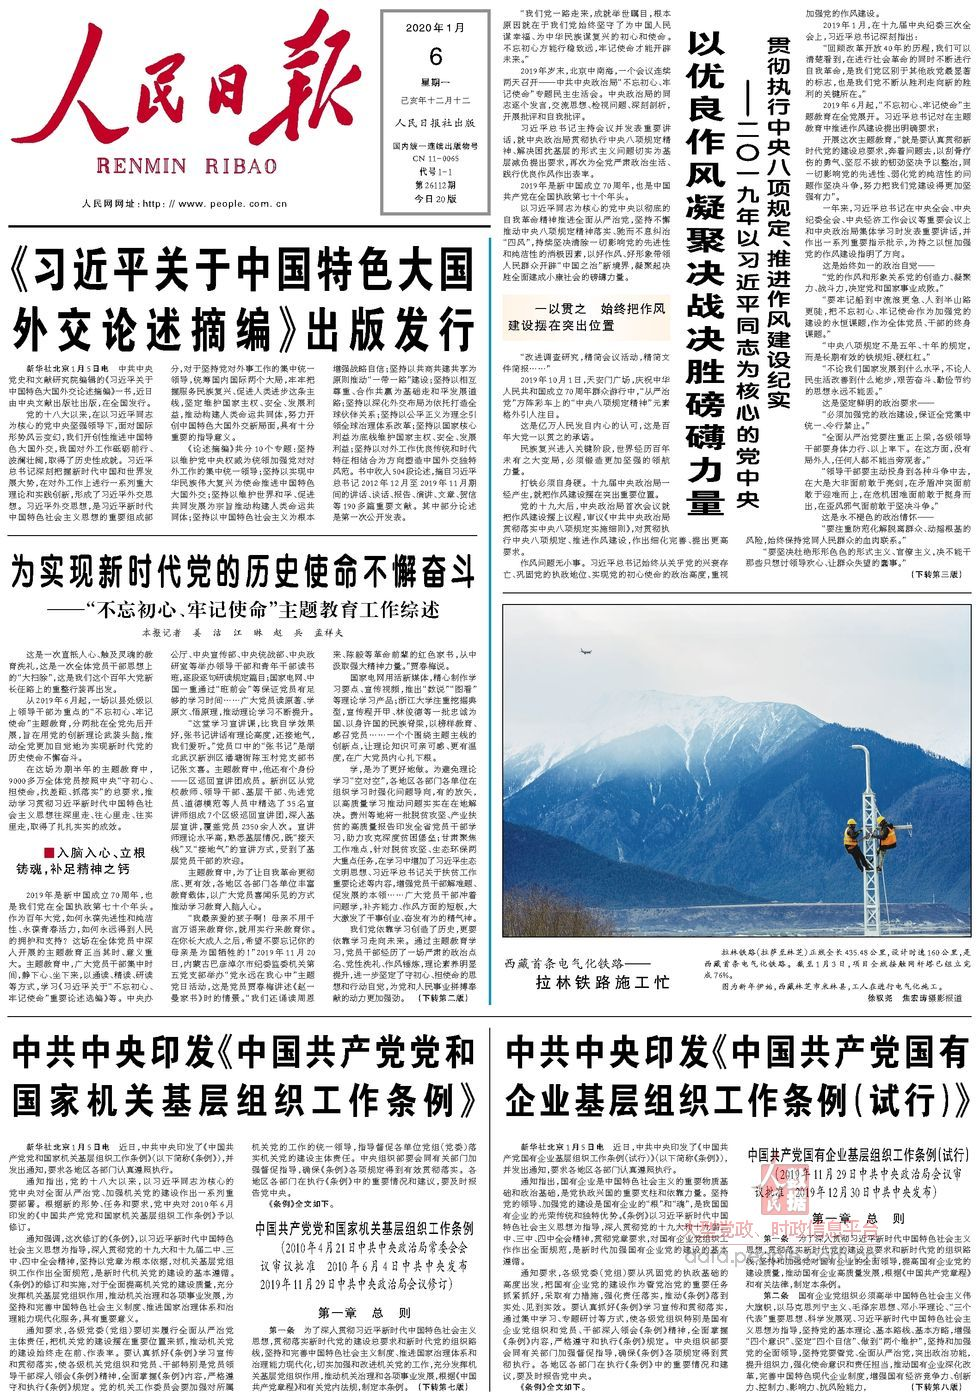pic: (497, 600, 977, 941)
